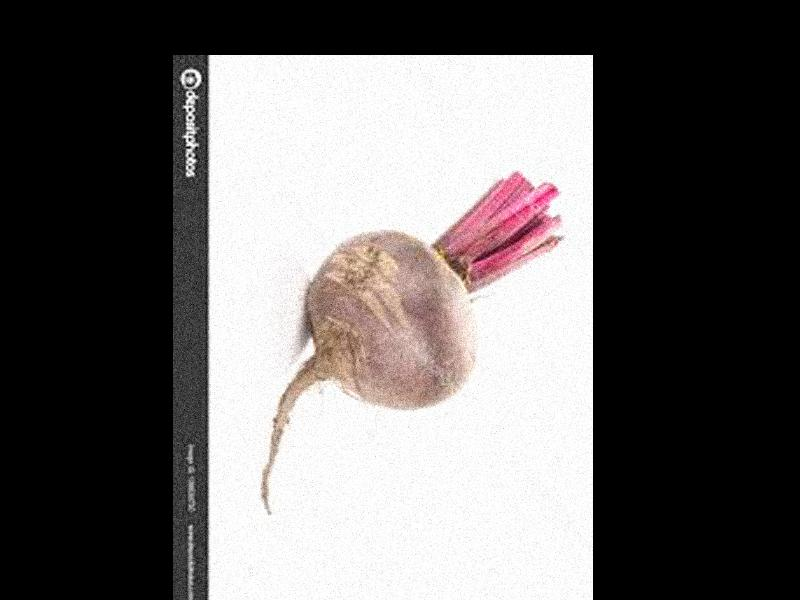Beet: (262, 174, 562, 515)
